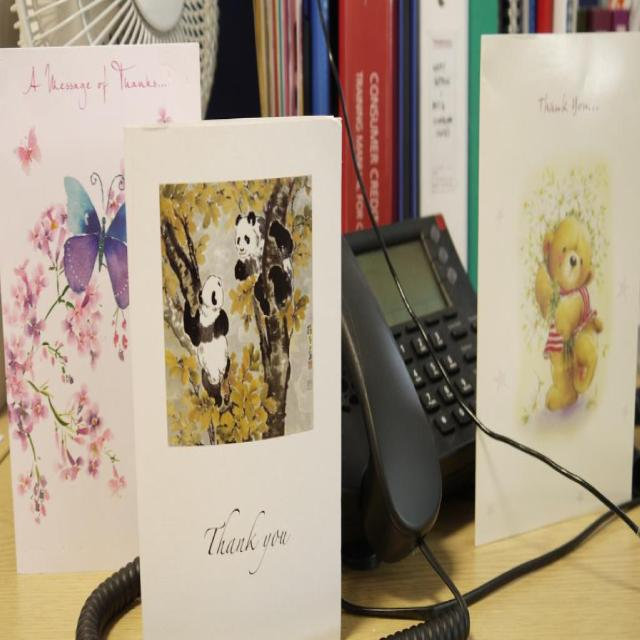panda: (186, 272, 232, 411), (236, 209, 294, 319)
